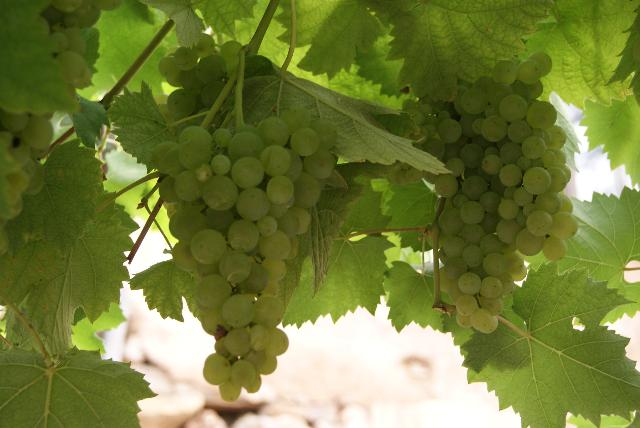grapes: (152, 108, 338, 400), (460, 52, 578, 260)
